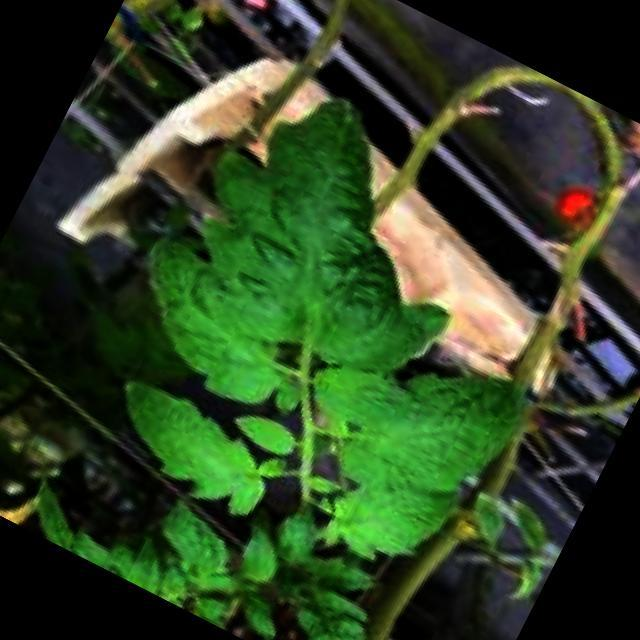Tomato healthy leaf: (126, 94, 505, 640)
